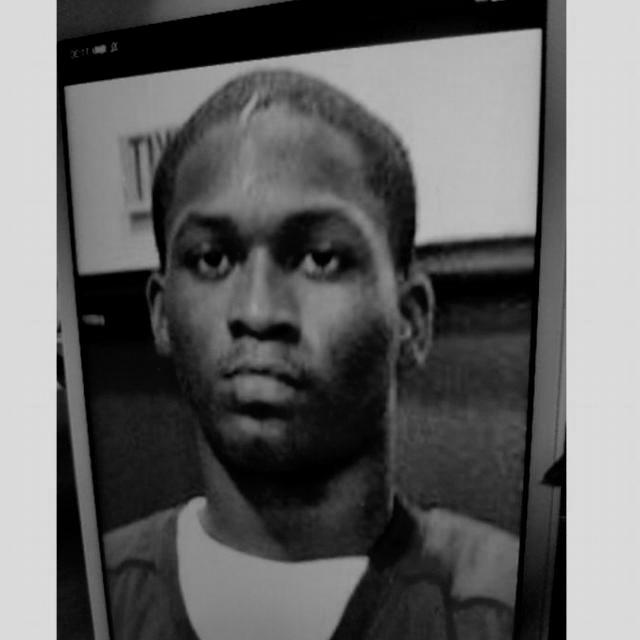fake: (58, 0, 566, 640)
